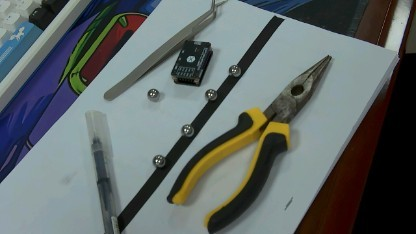ironball: (178, 118, 195, 137), (147, 151, 168, 166), (228, 61, 241, 80), (144, 87, 159, 100), (203, 86, 216, 100)
